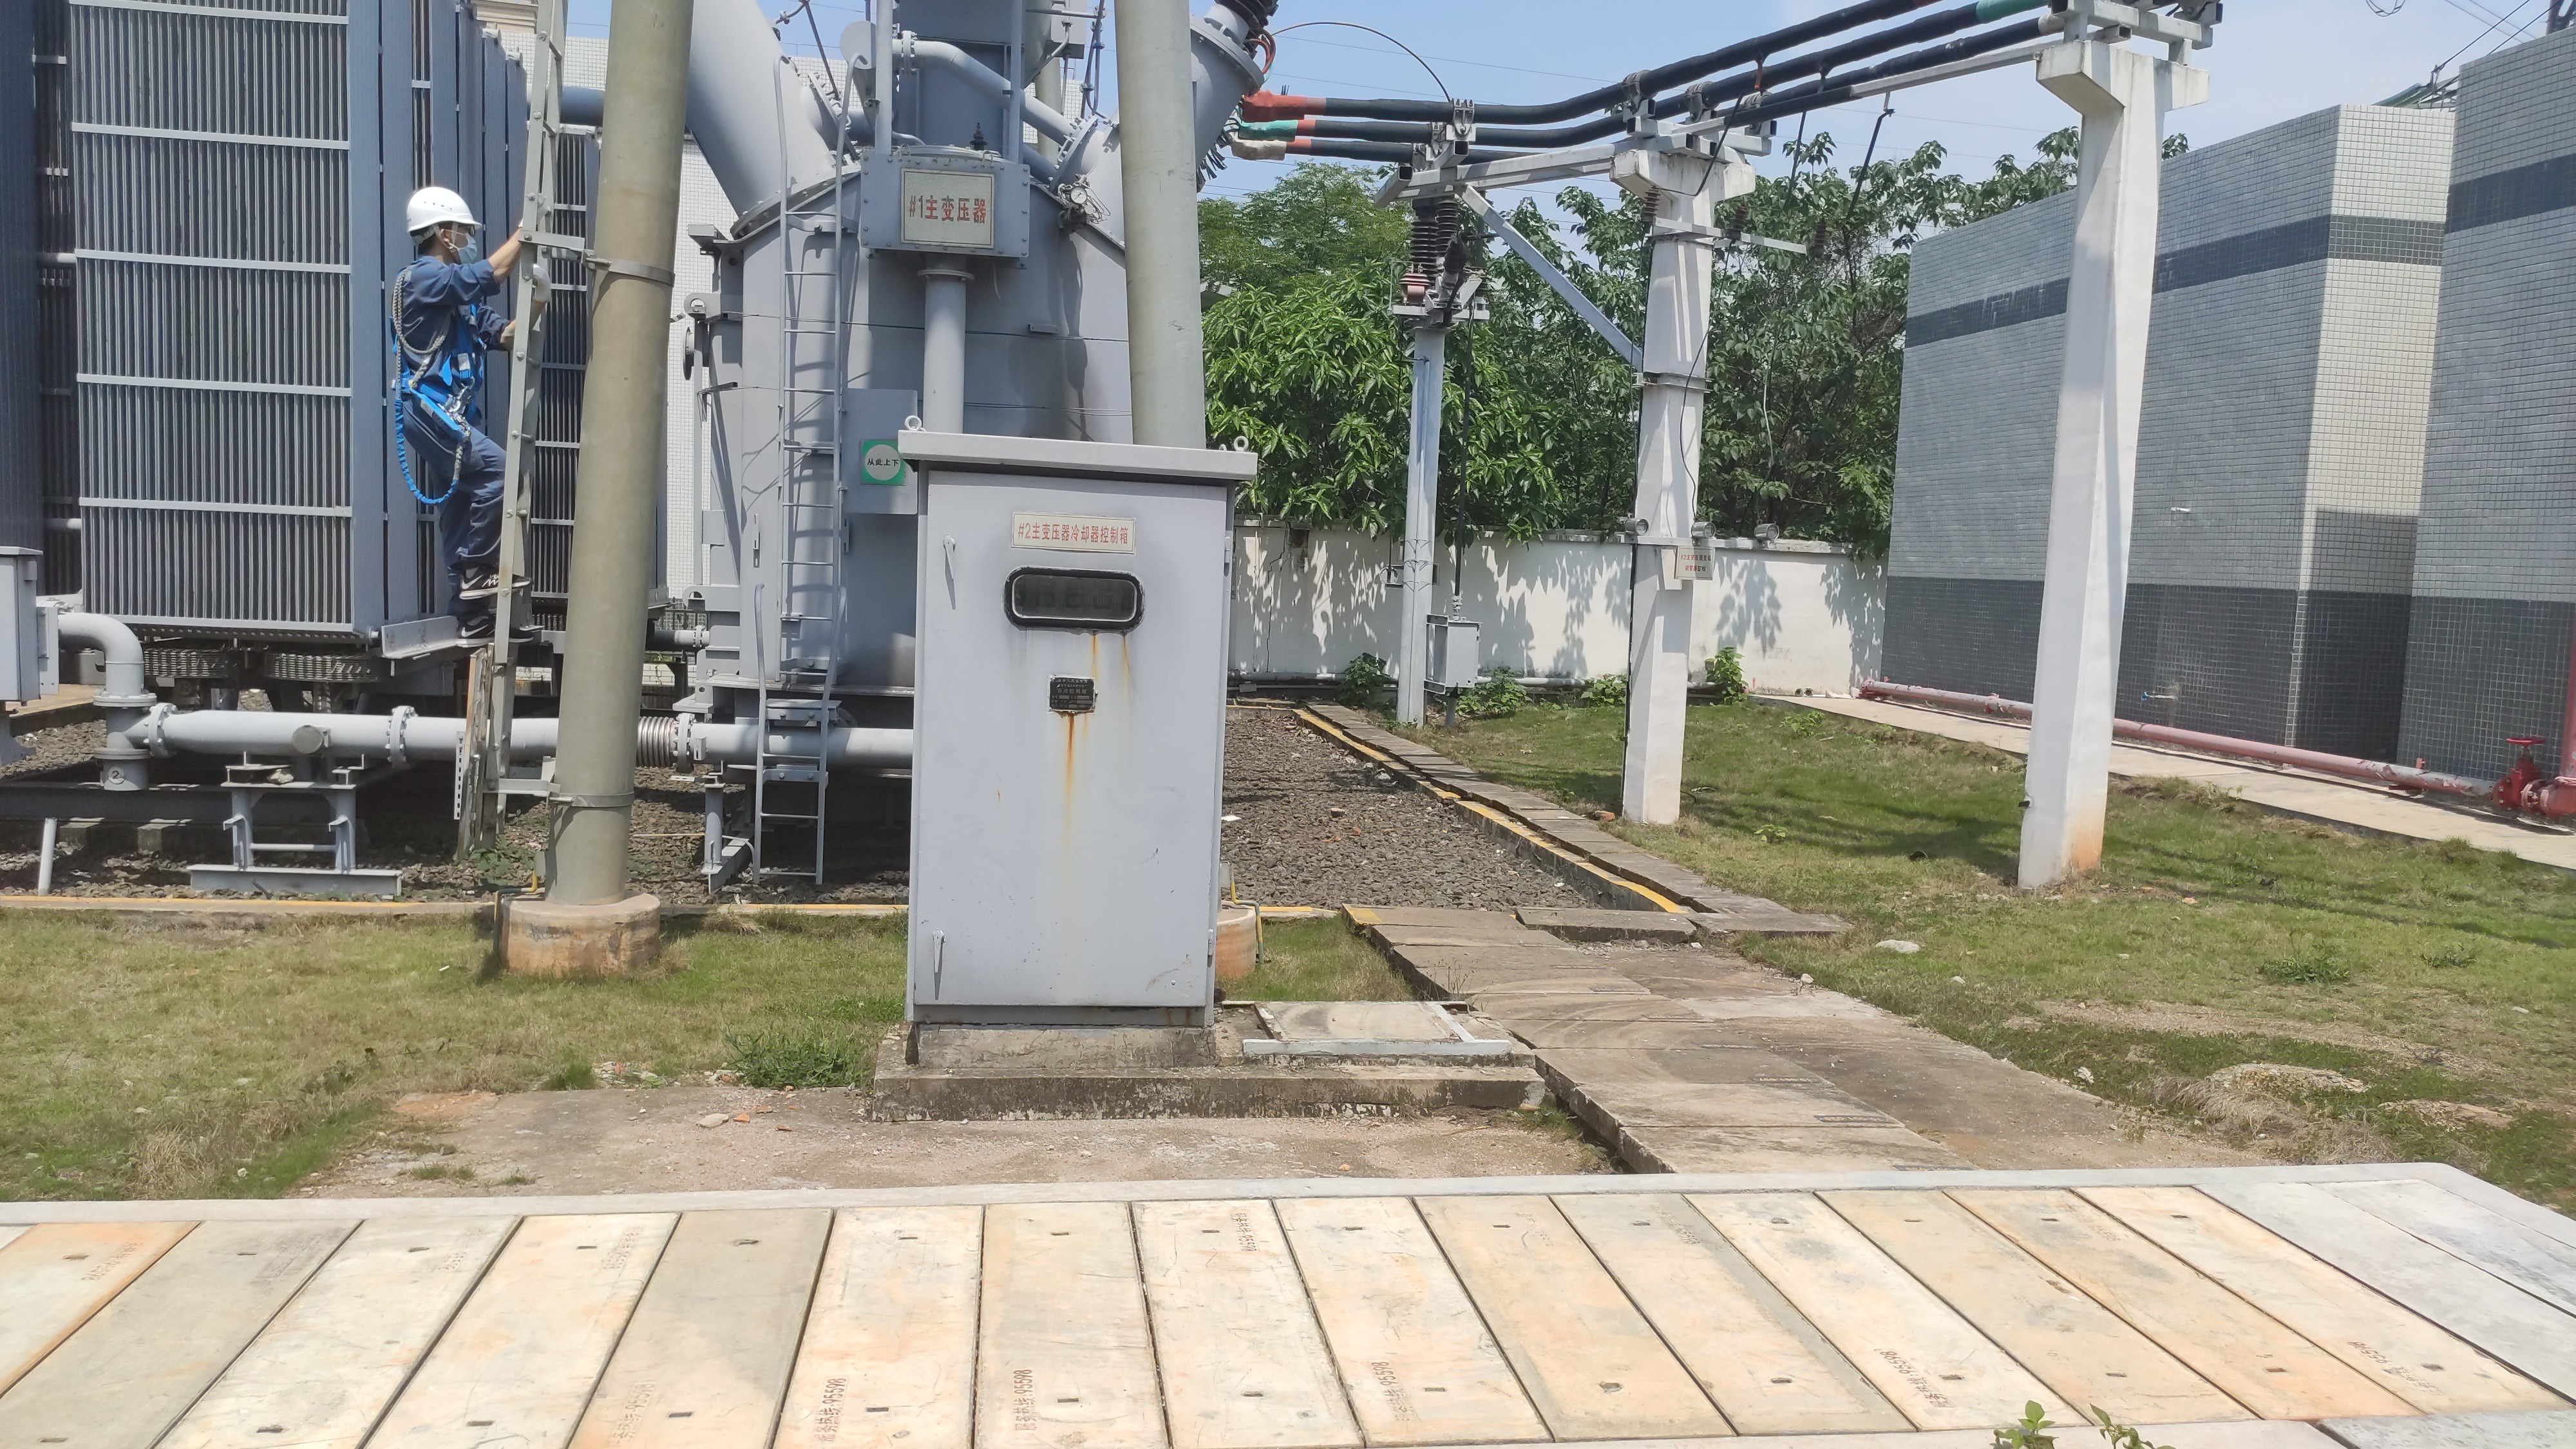downsuit: (407, 400, 524, 614)
upsuit: (387, 253, 506, 393)
wrongtop: (474, 219, 527, 288)
